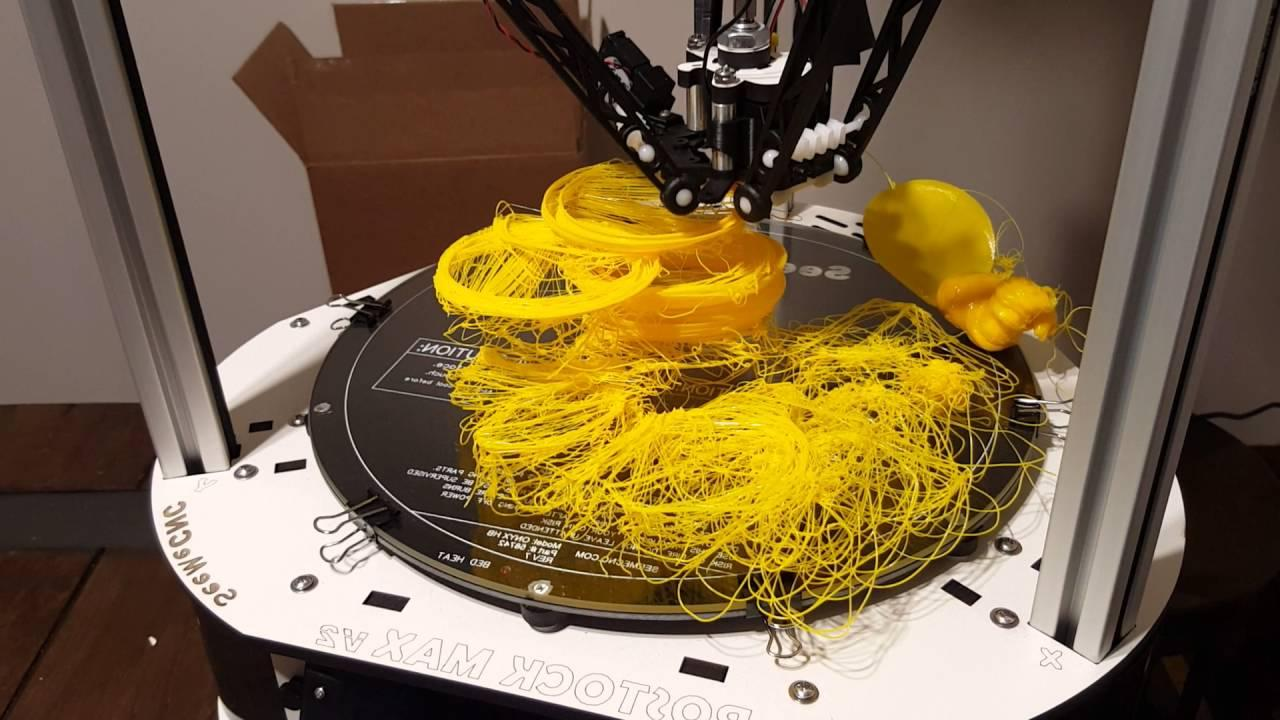Printing-Artifact: (616, 313, 990, 654)
